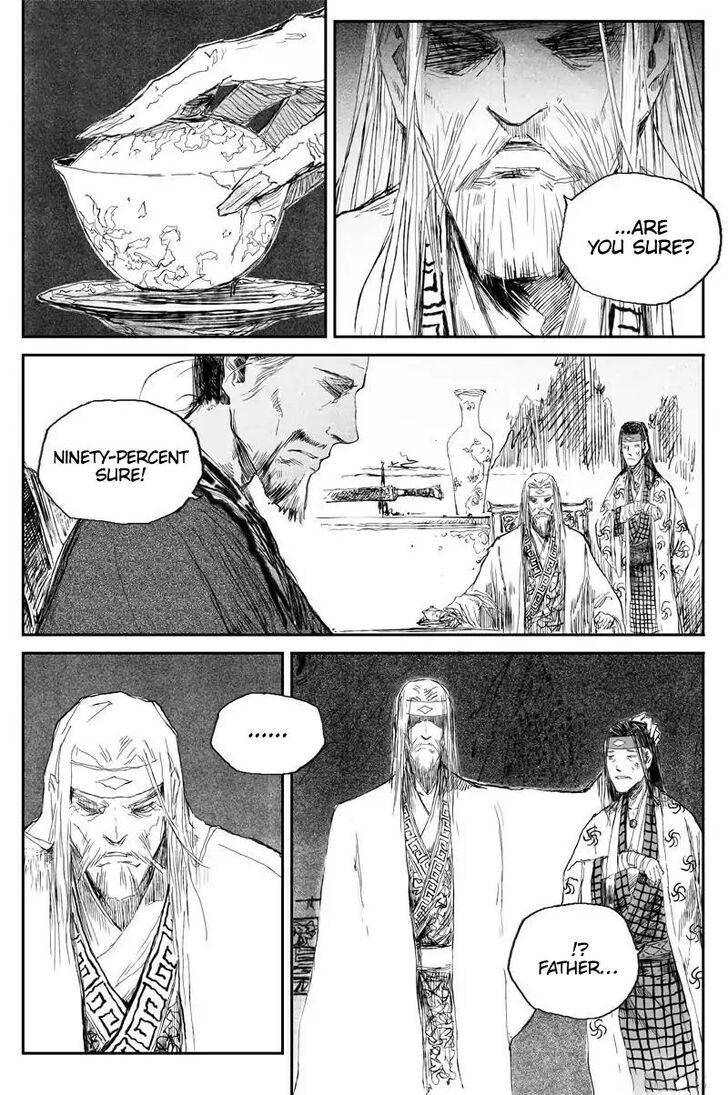Bubble: (557, 171, 723, 306), (36, 398, 205, 526), (507, 901, 642, 1021), (209, 690, 326, 776)
